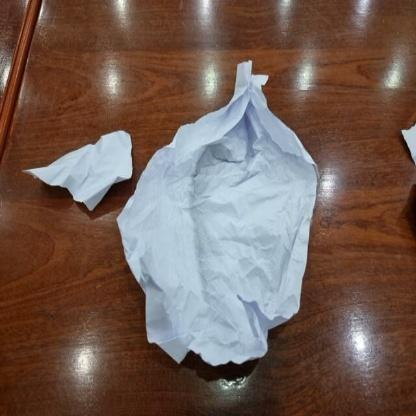trash: (117, 53, 322, 377), (17, 126, 135, 208)
